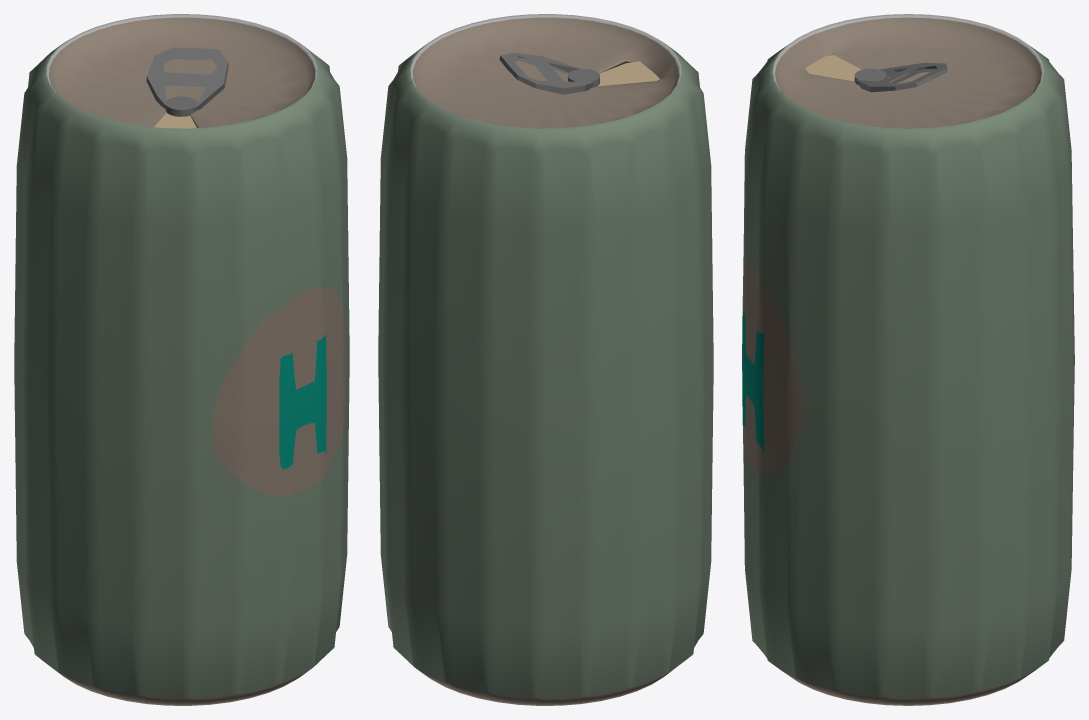
The model's file is canette verte.fbx.
The picture shows the model from 3 angles, left to right: view 1: azimuth 30°, elevation 25°; view 2: azimuth 150°, elevation 25°; view 3: azimuth 270°, elevation 25°; orthographic projection.
Parts seen in each view (by area): view 1: pCylinder1, pasted__pCylinder2, pCylinder3; view 2: pCylinder1, pasted__pCylinder2, pPlane1; view 3: pCylinder1, pasted__pCylinder2, pPlane1.
Part boxes in pixels (x1,y1,x2,y2): pCylinder1: (14, 14, 349, 705); pasted__pCylinder2: (146, 47, 228, 110); pCylinder3: (165, 96, 197, 116); pCylinder1: (378, 14, 713, 705); pasted__pCylinder2: (499, 52, 594, 94); pPlane1: (598, 61, 659, 86); pCylinder1: (742, 14, 1074, 705); pasted__pCylinder2: (856, 62, 947, 92); pPlane1: (805, 55, 861, 81).
Size of the model in its own units: 1.96 by 3.8 by 1.96.
